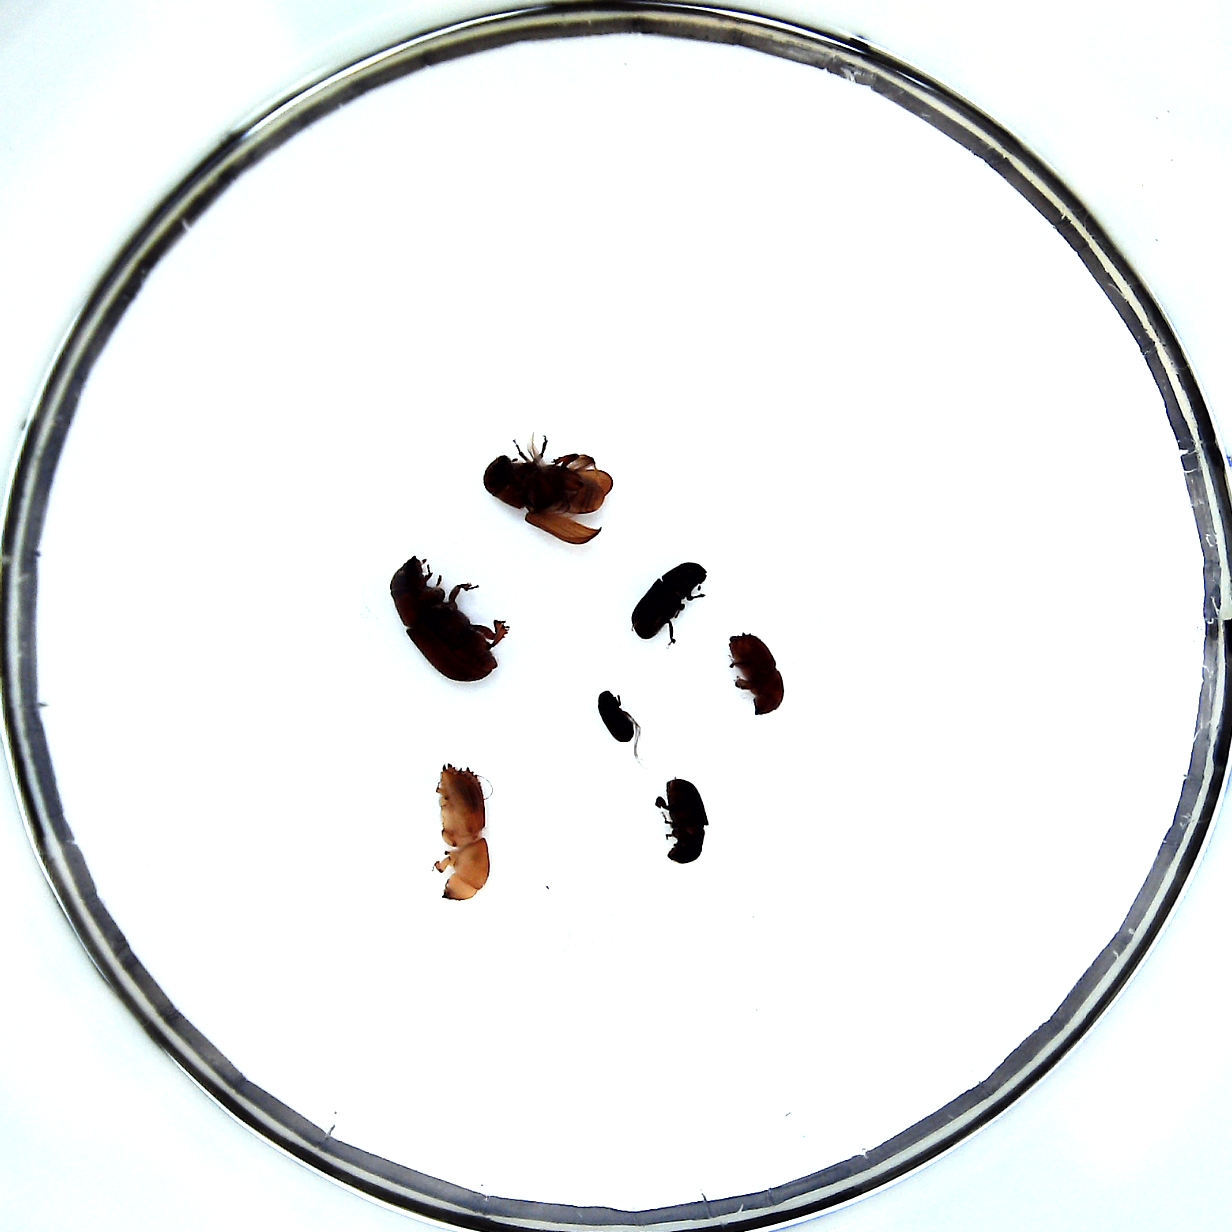Boerner: (435, 764, 491, 900)
Leconte: (391, 555, 499, 681), (483, 454, 614, 544)
armandi: (631, 561, 706, 640), (654, 776, 710, 864)
coleoptera: (598, 690, 634, 743)
linnaeus: (729, 632, 784, 715)
